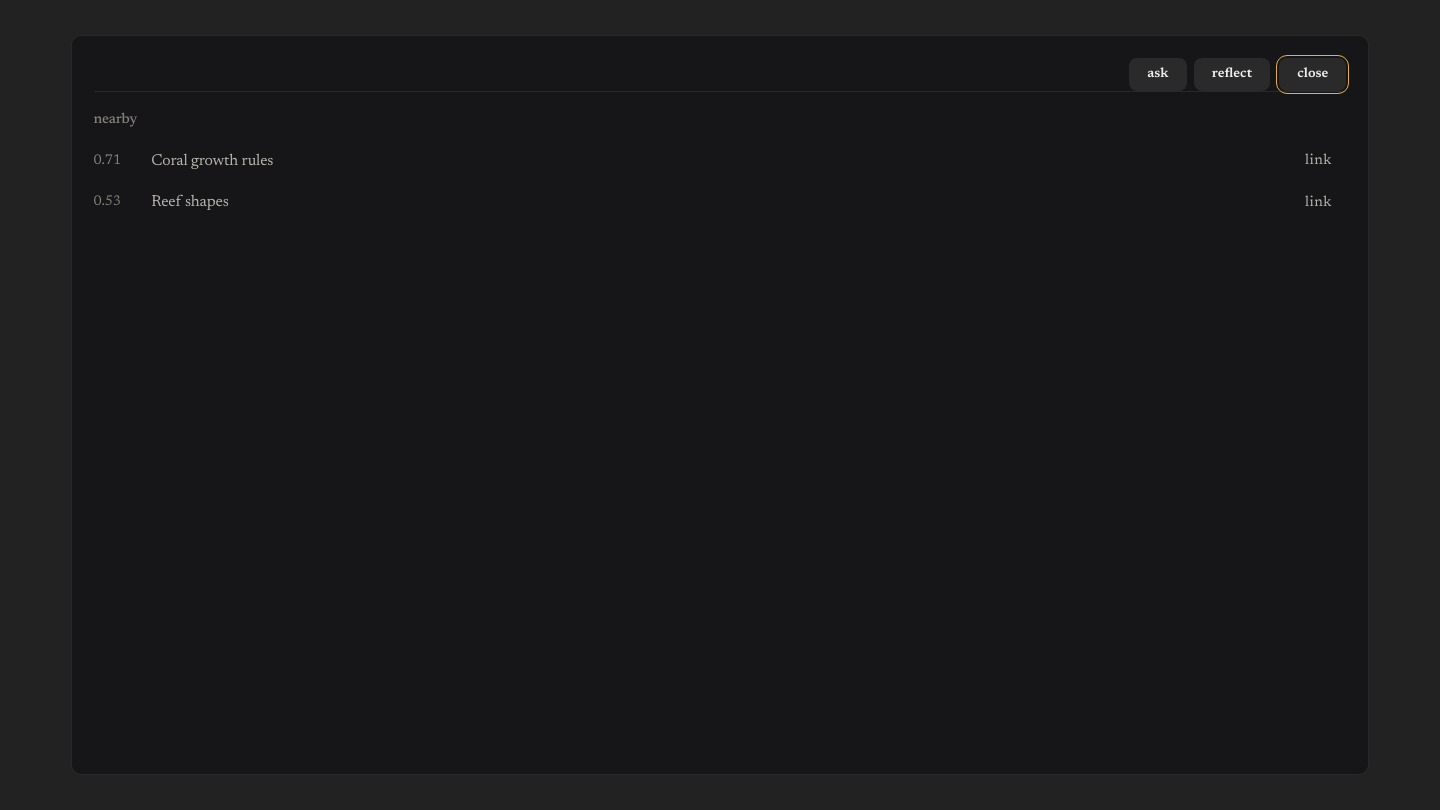
Test case: nearby lists text neighbours with cosine; a tap writes the link and shows its clause
The width and height of the screenshot is (1440, 810).
Expected: the element named "nearby notes" shows "Coral growth rules", left=151, top=153, right=273, bottom=169
Expected: the element named "nearby notes" shows "0.71", left=94, top=154, right=121, bottom=168
Click the button with aria-label "link Coral growth rules": (1318, 161) left=1291, top=143, right=1346, bottom=179
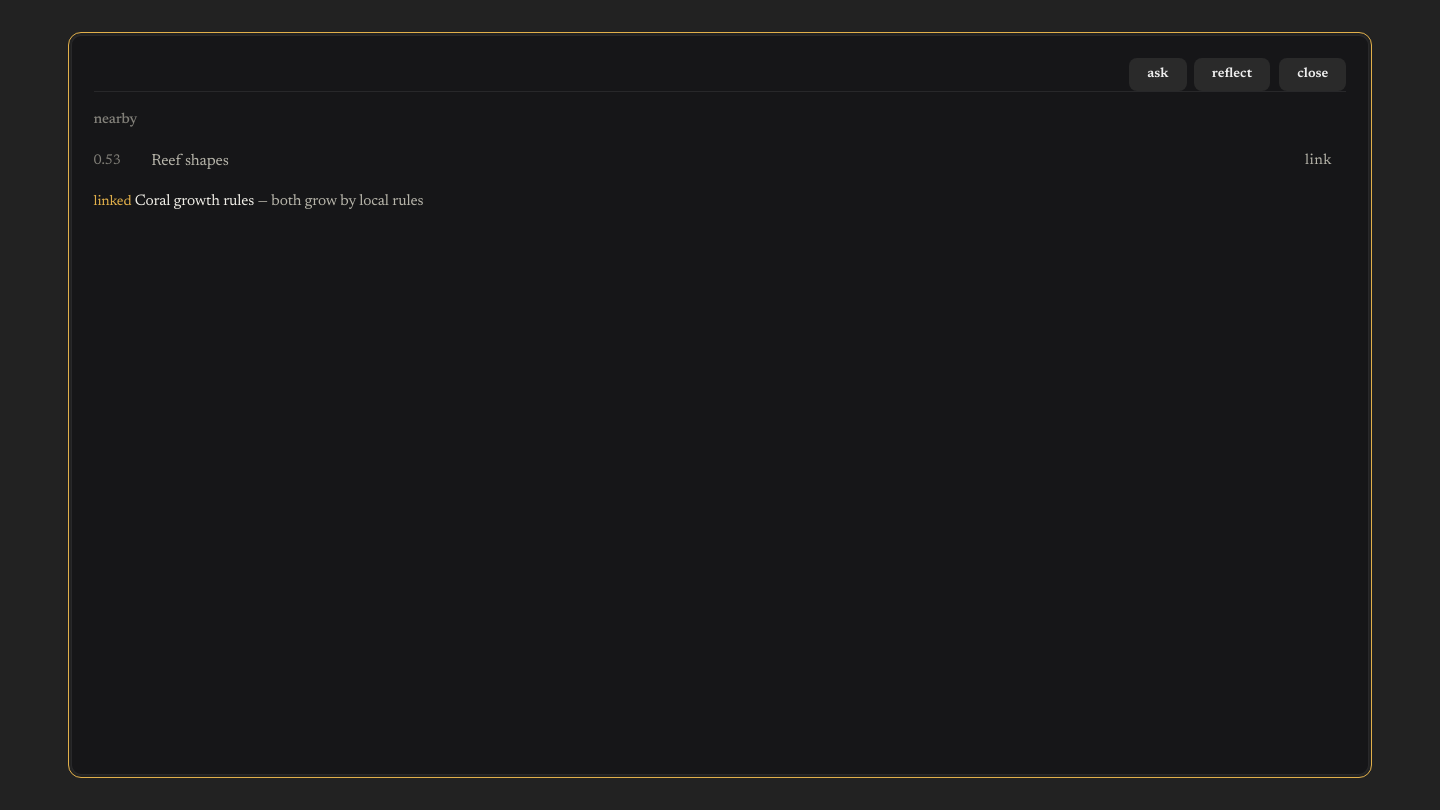
Expected: the list "linked" shows "Coral growth rules", left=135, top=194, right=254, bottom=209
Expected: the list "linked" shows "both grow by local rules", left=271, top=194, right=423, bottom=209
